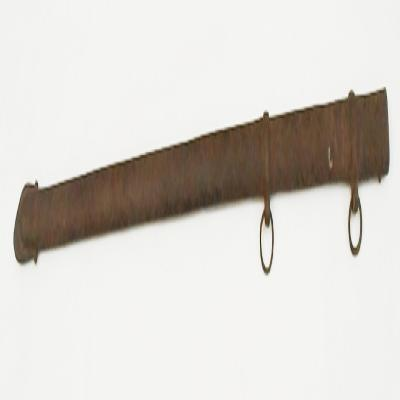weapon: (12, 89, 390, 276)
